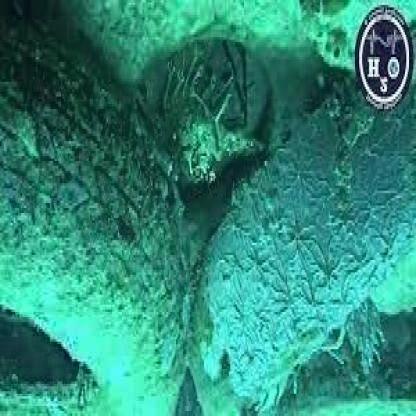tire: (188, 64, 416, 415), (2, 2, 194, 416)
